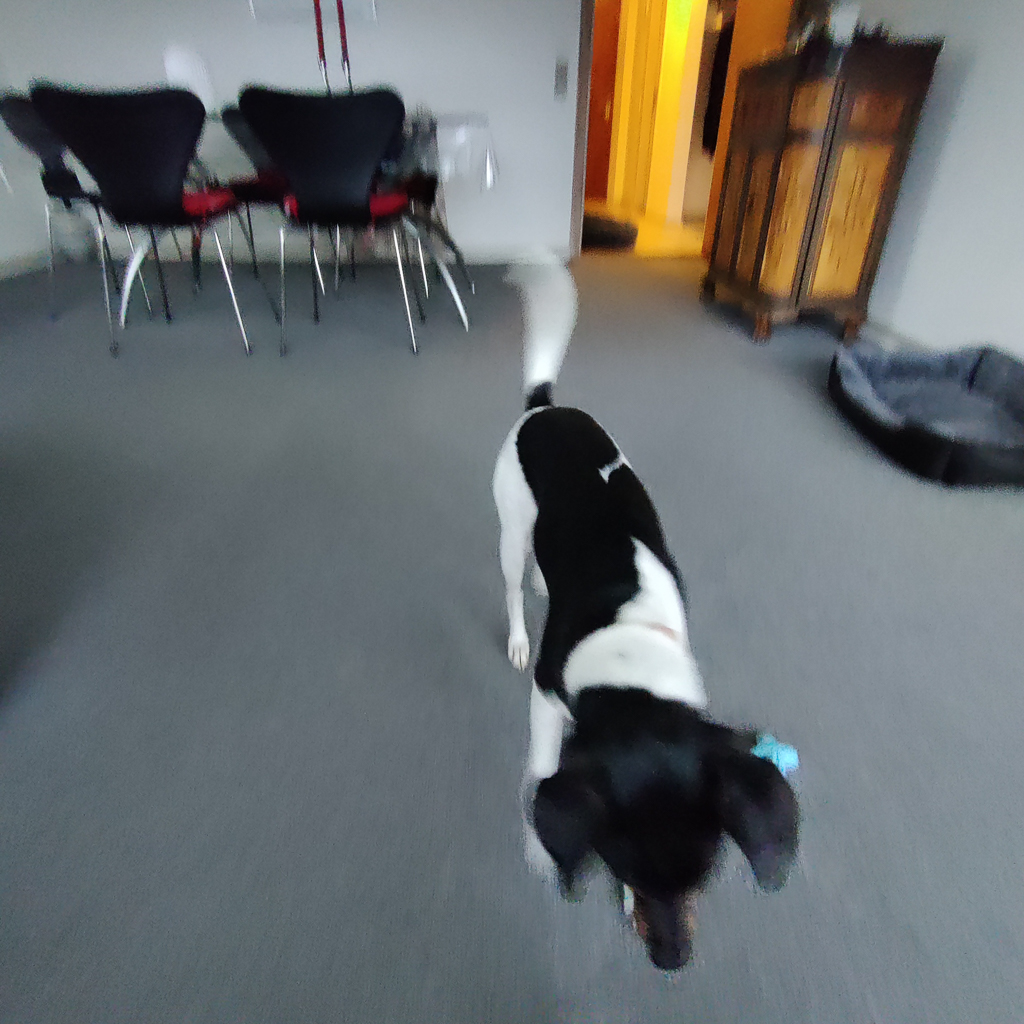Dog: (461, 214, 821, 992)
